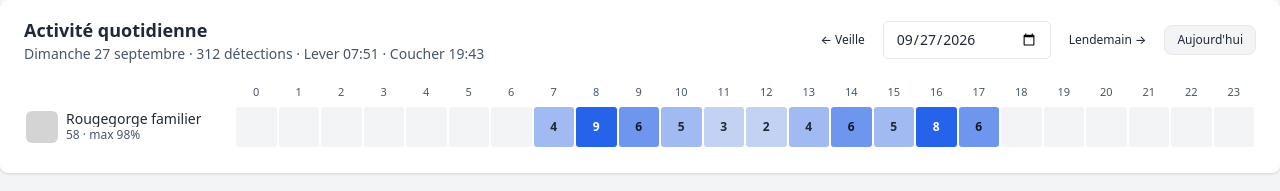
Test case: DailyActivityCalendar › ignore la réponse la plus ancienne après deux changements rapides de date (pas de course)
Check: the text "Rougegorge familier" is shown, box x1=66 y1=110 x2=202 y2=127
Type "2026-09-20" into the date field named "Choisir une date" at point(967, 40), box x1=883 y1=21 x2=1051 y2=59
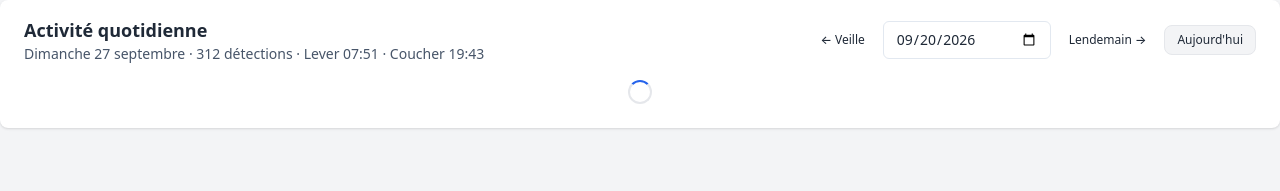
Type "2026-09-15" into the date field named "Choisir une date" at point(967, 40), box x1=883 y1=21 x2=1051 y2=59
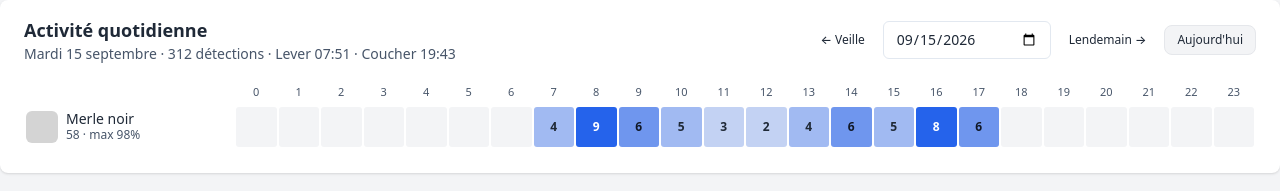
Check: the text "Merle noir" is shown, box x1=66 y1=110 x2=140 y2=127
